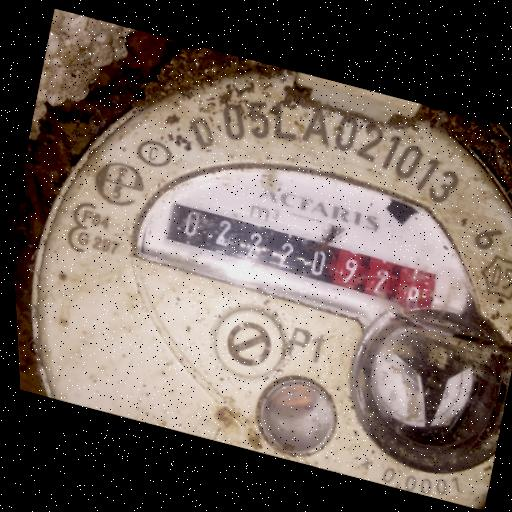0: (299, 239, 338, 284), (172, 204, 210, 248)
2: (202, 213, 243, 258), (362, 257, 401, 301), (235, 221, 273, 266), (266, 230, 304, 273)
8: (390, 265, 440, 320)
9: (330, 249, 367, 292)
border_water_meter_number: (153, 192, 458, 337)
